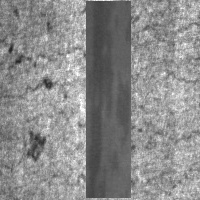crazing: (47, 102, 152, 188), (3, 26, 126, 95), (132, 3, 200, 89)
inclusion: (86, 1, 131, 198)
